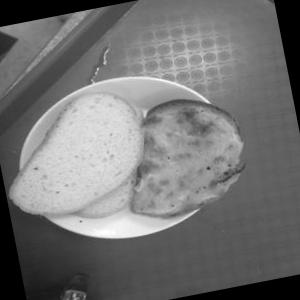bread: (0, 62, 162, 243)
cheese_sandwich: (109, 82, 261, 242)
